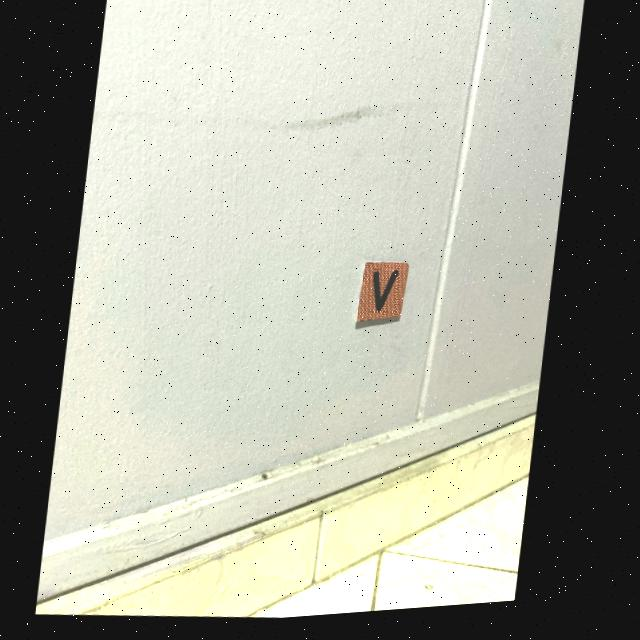V: (375, 276, 400, 317)
